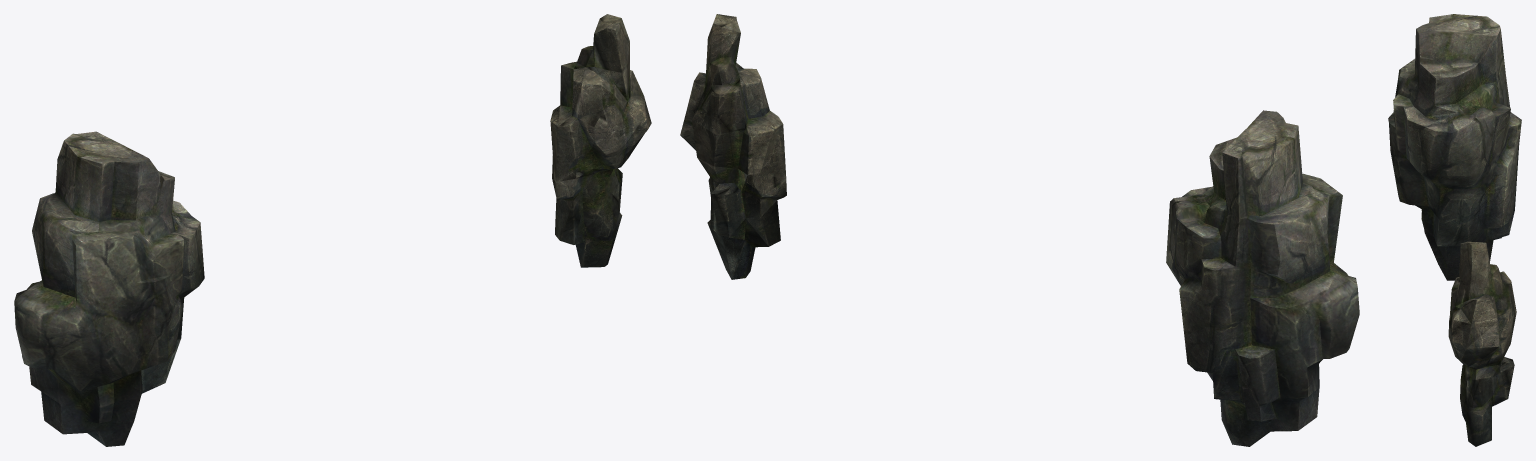
Rendered from f_1113_shanshi01.FBX.
The picture shows the model from 3 angles, left to right: view 1: azimuth 30°, elevation 25°; view 2: azimuth 150°, elevation 25°; view 3: azimuth 270°, elevation 25°; orthographic projection. The views are drawn at different scales.
Parts seen in each view (by area): view 1: f_1113_shanshi2, f_1116_shanshi1; view 2: f_1113_shanshi2, f_1116_shanshi1; view 3: f_1113_shanshi2, f_1116_shanshi1.
Boxes of the visible parts, left/top/right/bottom form: f_1113_shanshi2: left=14, top=131, right=204, bottom=446; f_1116_shanshi1: left=550, top=14, right=651, bottom=267; f_1113_shanshi2: left=1166, top=110, right=1359, bottom=446; f_1116_shanshi1: left=680, top=14, right=786, bottom=279; f_1113_shanshi2: left=1388, top=14, right=1521, bottom=280; f_1116_shanshi1: left=1448, top=241, right=1516, bottom=446.
Size of the model in its own units: 3424 by 1518 by 736.
